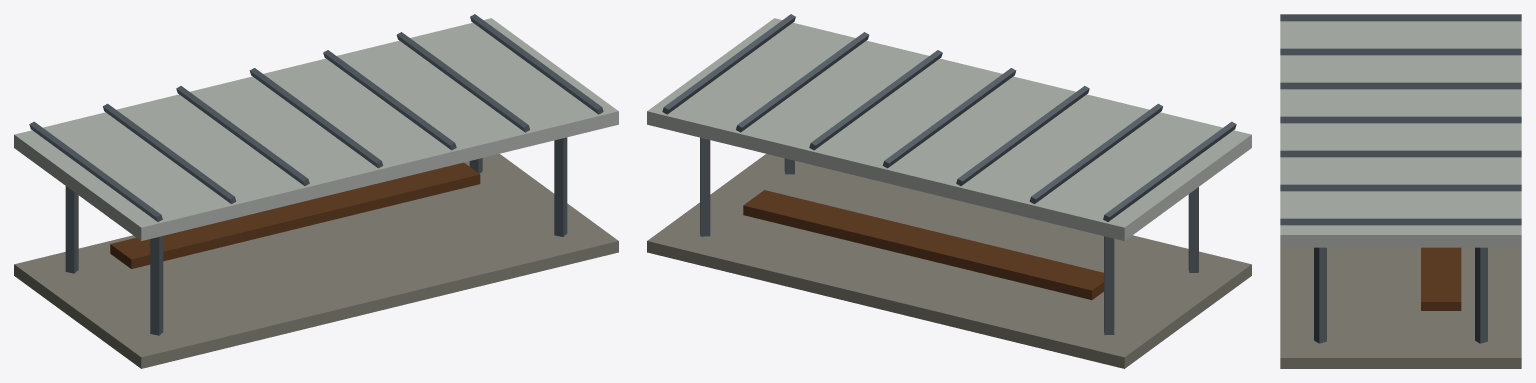
Rendered from shelter.glb.
The picture shows the model from 3 angles, left to right: view 1: azimuth 30°, elevation 25°; view 2: azimuth 150°, elevation 25°; view 3: azimuth 270°, elevation 25°; orthographic projection. The views are drawn at different scales.
Visible parts, largest first — view 1: shelter; view 2: shelter; view 3: shelter.
Boxes of the visible parts, x1,y1,x2,y2 form: shelter: (14,14,618,368); shelter: (647,14,1251,368); shelter: (1280,14,1521,368).
Bounding box in the file's own units: 26 × 7.78 × 12.
